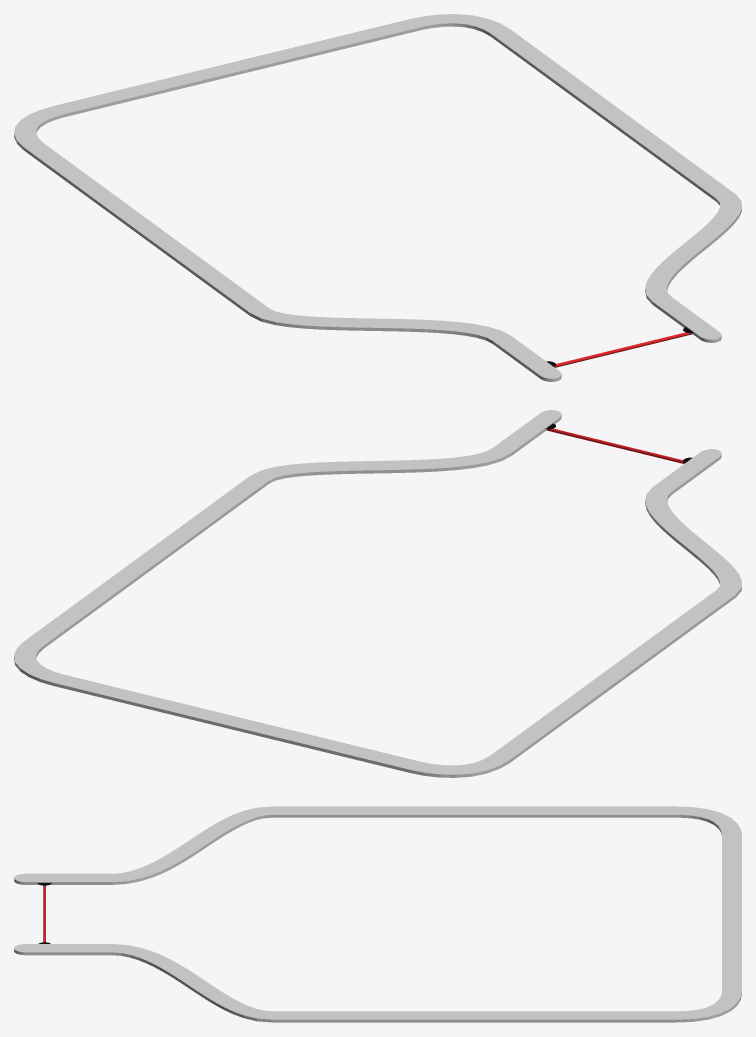
The model's file is buttle cube.fbx.
The picture shows the model from 3 angles, top to bottom: view 1: azimuth 30°, elevation 25°; view 2: azimuth 150°, elevation 25°; view 3: azimuth 270°, elevation 25°; orthographic projection. The views are drawn at different scales.
Visible parts, largest first — view 1: Plane; view 2: Plane; view 3: Plane.
Part boxes in pixels (<box>): Plane: <box>14,14,741,381</box>; Plane: <box>14,410,741,777</box>; Plane: <box>14,806,741,1022</box>.
Bounding box in the file's own units: 86.4 × 0.9645 × 125.
